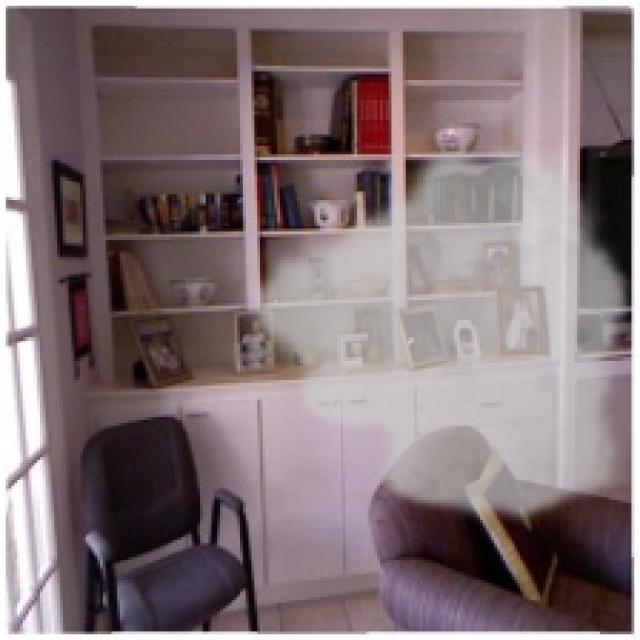Smoke: (240, 134, 634, 526)
